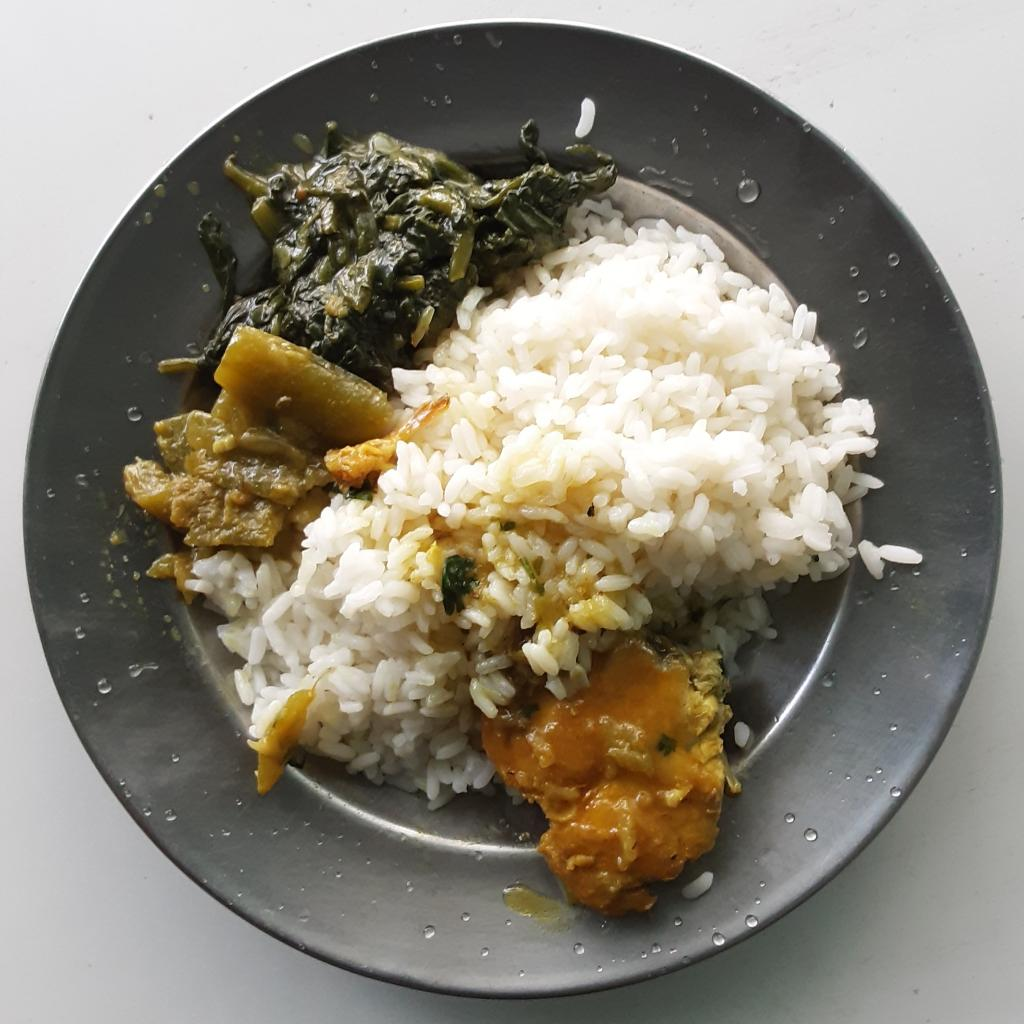fish: (480, 635, 727, 915)
lau: (122, 324, 448, 591)
rice: (188, 199, 923, 806)
shak: (159, 117, 620, 389)
